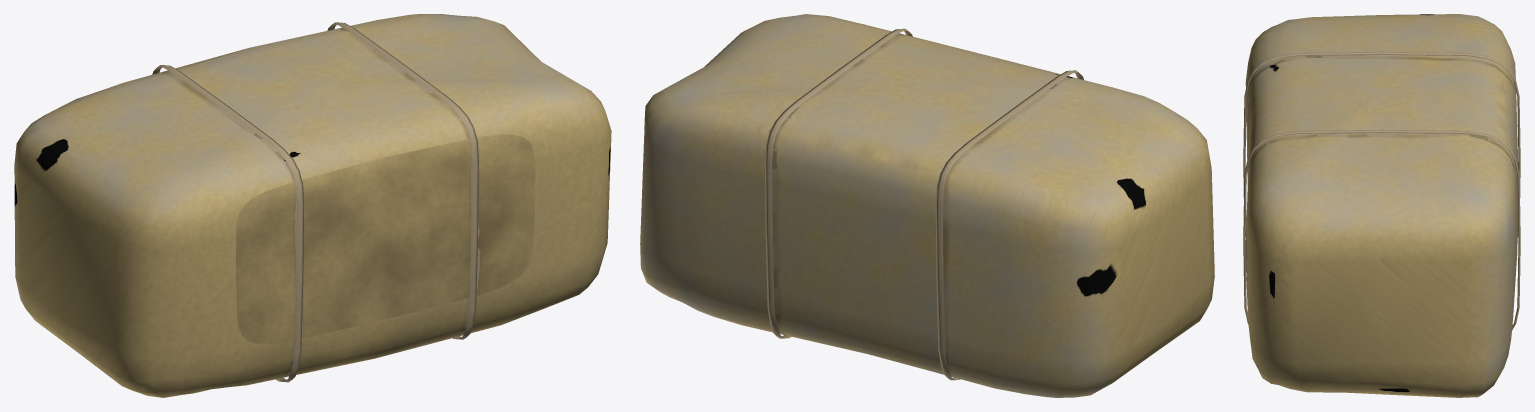
File: SM_Camp_HayBale.fbx
3 renders of one model, left to right at view 1: azimuth 30°, elevation 25°; view 2: azimuth 150°, elevation 25°; view 3: azimuth 270°, elevation 25°, orthographic. The views are drawn at different scales.
Visible parts, largest first — view 1: SM_Camp_HayBale; view 2: SM_Camp_HayBale; view 3: SM_Camp_HayBale.
Part boxes in pixels (<box>): SM_Camp_HayBale: <box>14,14,611,397</box>; SM_Camp_HayBale: <box>640,14,1214,397</box>; SM_Camp_HayBale: <box>1243,14,1520,397</box>.
Size of the model in its own units: 90.87 by 48.11 by 42.02.
